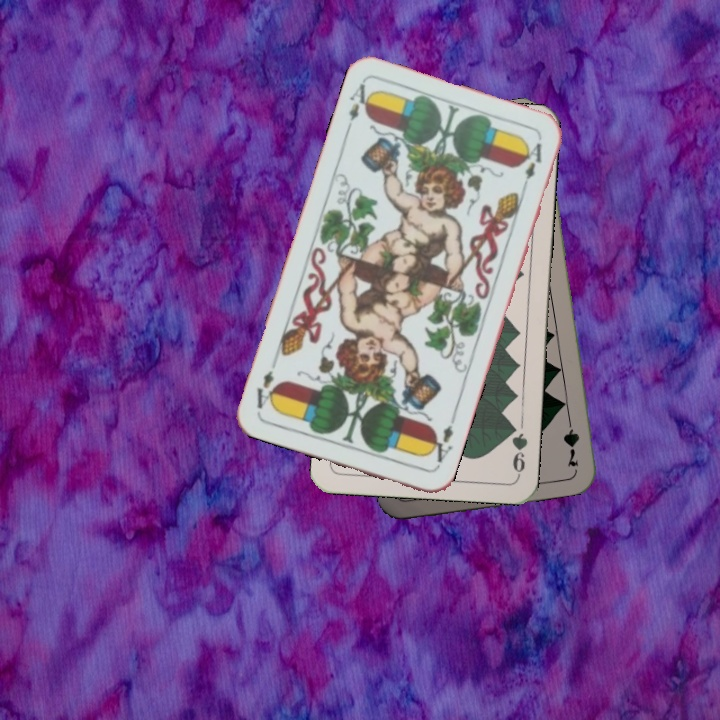EA: (342, 79, 376, 136), (424, 421, 456, 470)
G7: (562, 409, 582, 469)
G9: (506, 418, 530, 478)
